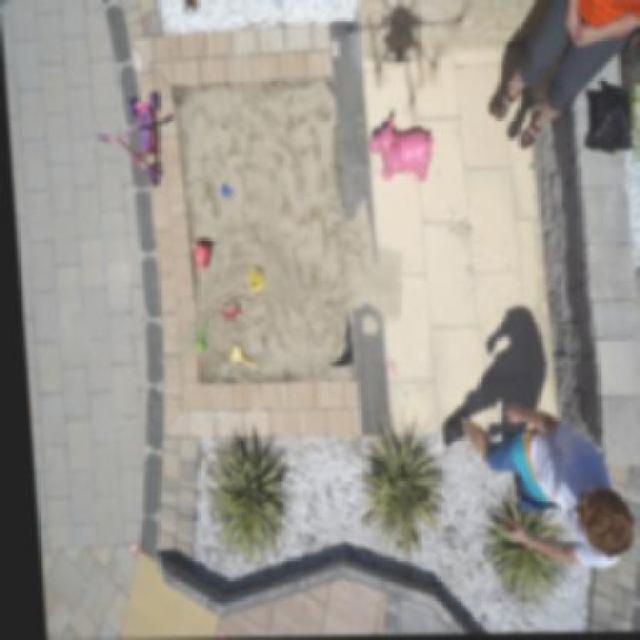Person: (423, 394, 635, 577), (474, 0, 638, 160)
